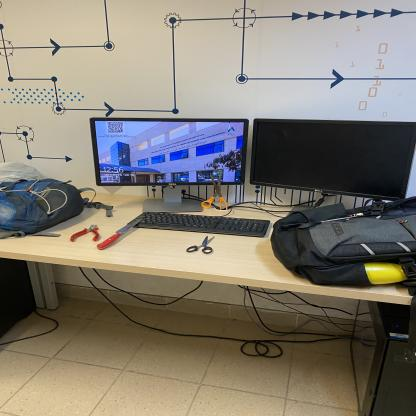Knife: (97, 217, 146, 251)
scissors: (202, 172, 229, 209), (186, 236, 216, 254)
